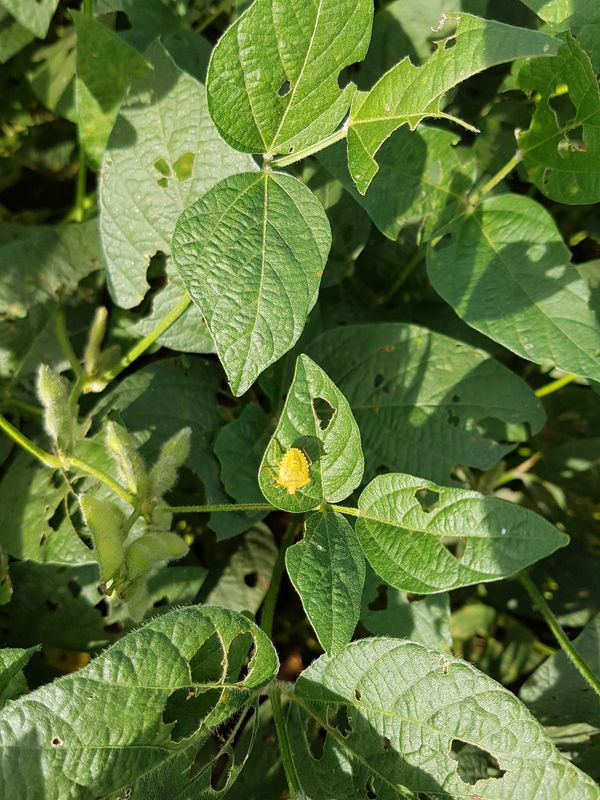Euschistus_heros_ninfa: (257, 434, 322, 503)
